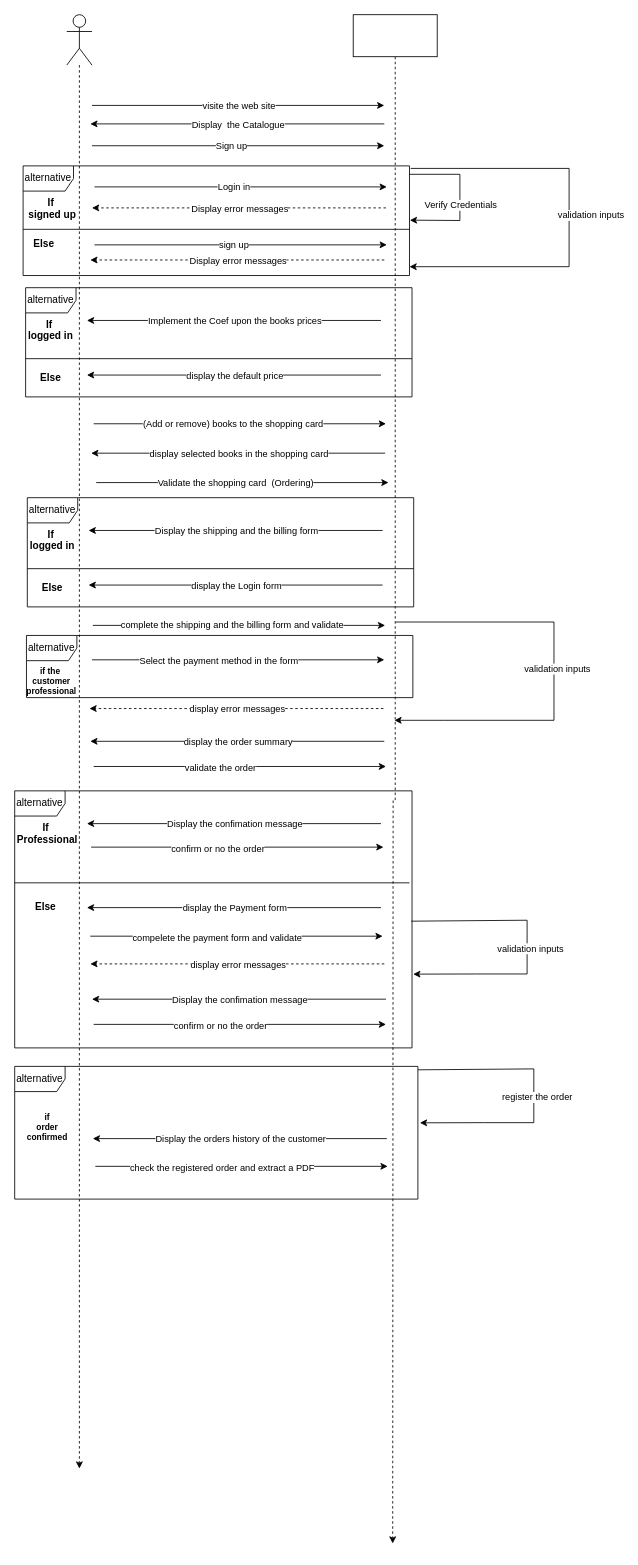
The diagram is 638 pixels wide and 1565 high, and some of its shapes have lost their labels. Each missing label, with the centre of its shape:
"bookStore app System" belongs at point (394, 35).
"Customer (Private/Professional)" belongs at point (79, 39).
